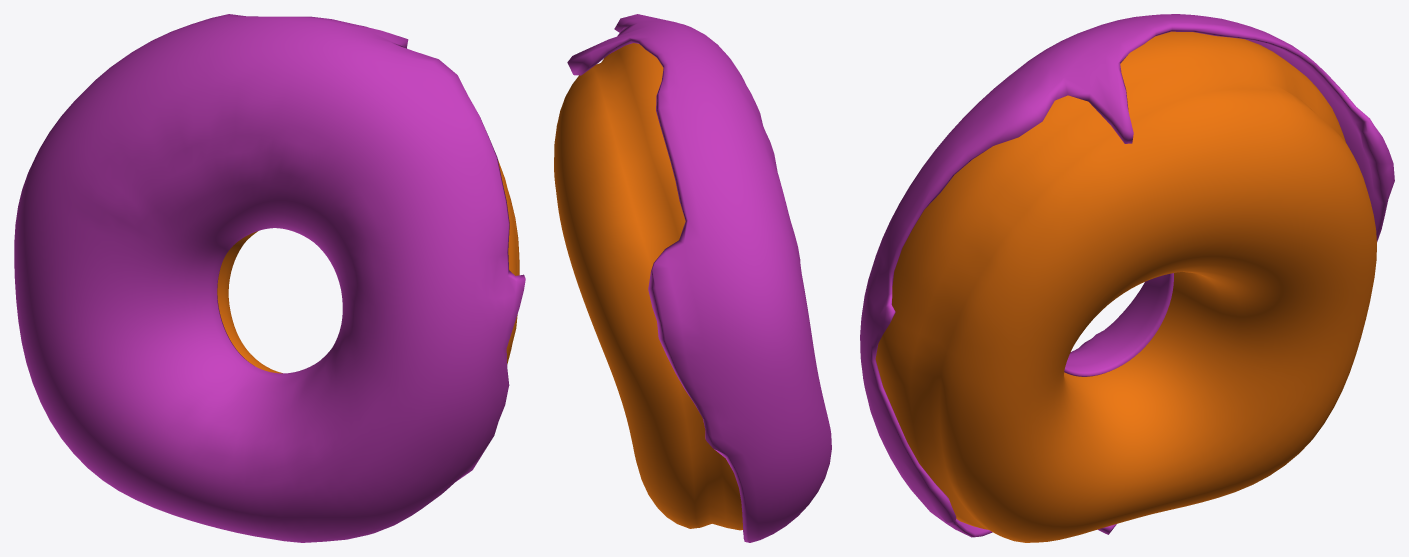
The model's file is Donut.fbx.
The picture shows the model from 3 angles, left to right: view 1: azimuth 30°, elevation 25°; view 2: azimuth 150°, elevation 25°; view 3: azimuth 270°, elevation 25°; orthographic projection. The views are drawn at different scales.
Parts seen in each view (by area): view 1: Donut_Icing, Donut; view 2: Donut_Icing, Donut; view 3: Donut, Donut_Icing.
Part boxes in pixels (box(x1,y1,x2,y2)): Donut_Icing: box(14, 14, 525, 542); Donut: box(217, 160, 519, 373); Donut_Icing: box(567, 14, 831, 542); Donut: box(554, 43, 743, 530); Donut: box(875, 31, 1376, 542); Donut_Icing: box(860, 14, 1394, 537).
Bounding box in the file's own units: 7.94 × 10.05 × 9.34.
